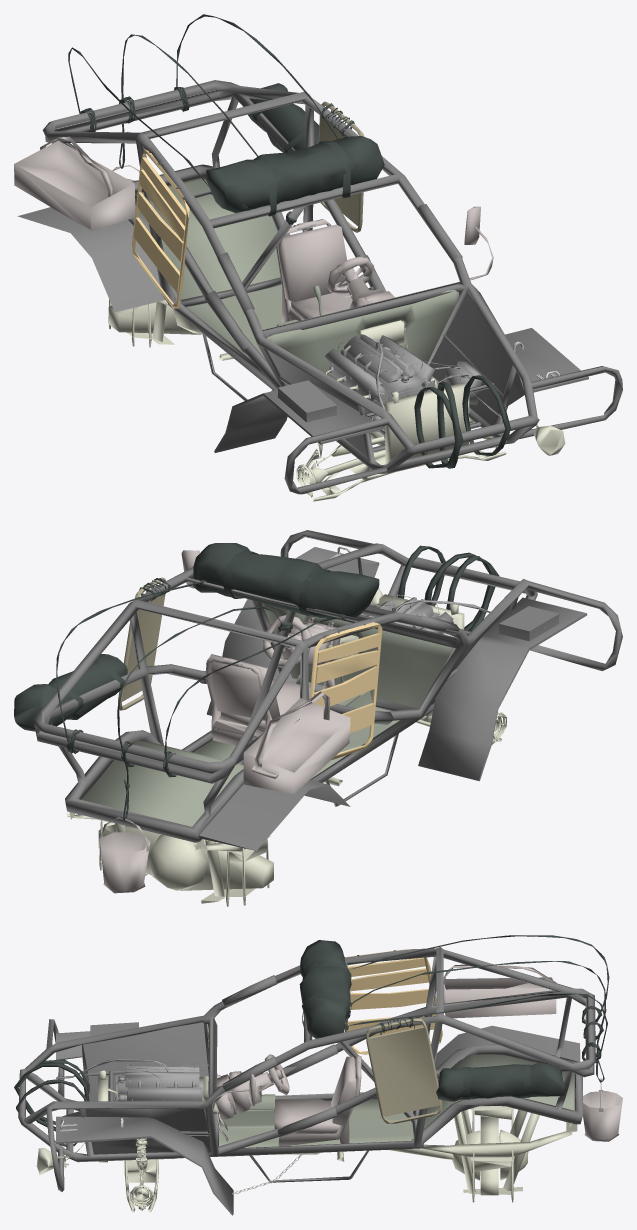
File: buggyY90.glb
3 views of the same model, one above another, from view 1: azimuth 30°, elevation 25°; view 2: azimuth 150°, elevation 25°; view 3: azimuth 270°, elevation 25° (orthographic). The views are drawn at different scales.
Parts seen in each view (by area): view 1: body_high, BodyF1_low.002, Circle.033, staing_low.001, p_low, Plane.001, Plane.018, Plane.009, Cylinder.002, NurbsPath.008; view 2: body_high, BodyF1_low.002, Circle.033, staing_low.001, p_low, Plane.018, Plane.009, NurbsPath.008, Plane.001, Cylinder.002; view 3: body_high, BodyF1_low.002, Circle.033, staing_low.001, Plane.018, p_low, NurbsPath.008, Plane.009, Plane.001, Cylinder.002.
Part boxes in pixels (x1,y1,x2,y2): body_high: [42, 80, 622, 494]; BodyF1_low.002: [17, 207, 588, 456]; Circle.033: [68, 14, 510, 468]; staing_low.001: [14, 136, 493, 330]; p_low: [135, 178, 459, 378]; Plane.001: [325, 326, 501, 439]; Plane.018: [108, 299, 469, 464]; Plane.009: [132, 149, 189, 308]; Cylinder.002: [296, 320, 565, 501]; NurbsPath.008: [318, 101, 364, 232]; body_high: [34, 530, 622, 842]; BodyF1_low.002: [199, 547, 587, 850]; Circle.033: [14, 543, 499, 821]; staing_low.001: [99, 550, 350, 893]; p_low: [83, 603, 453, 826]; Plane.018: [66, 594, 464, 906]; Plane.009: [309, 622, 382, 759]; NurbsPath.008: [118, 577, 165, 710]; Plane.001: [360, 594, 490, 634]; Cylinder.002: [339, 588, 506, 745]; body_high: [18, 947, 595, 1191]; BodyF1_low.002: [56, 1022, 580, 1215]; Circle.033: [14, 935, 609, 1146]; staing_low.001: [211, 964, 622, 1146]; Plane.018: [98, 1070, 577, 1202]; p_low: [206, 1024, 574, 1147]; NurbsPath.008: [366, 1018, 442, 1123]; Plane.009: [345, 949, 442, 1054]; Plane.001: [56, 1058, 216, 1160]; Cylinder.002: [36, 1076, 303, 1212].
Size of what is drawn, in the model's own units: 2.31 by 1.72 by 4.36.
